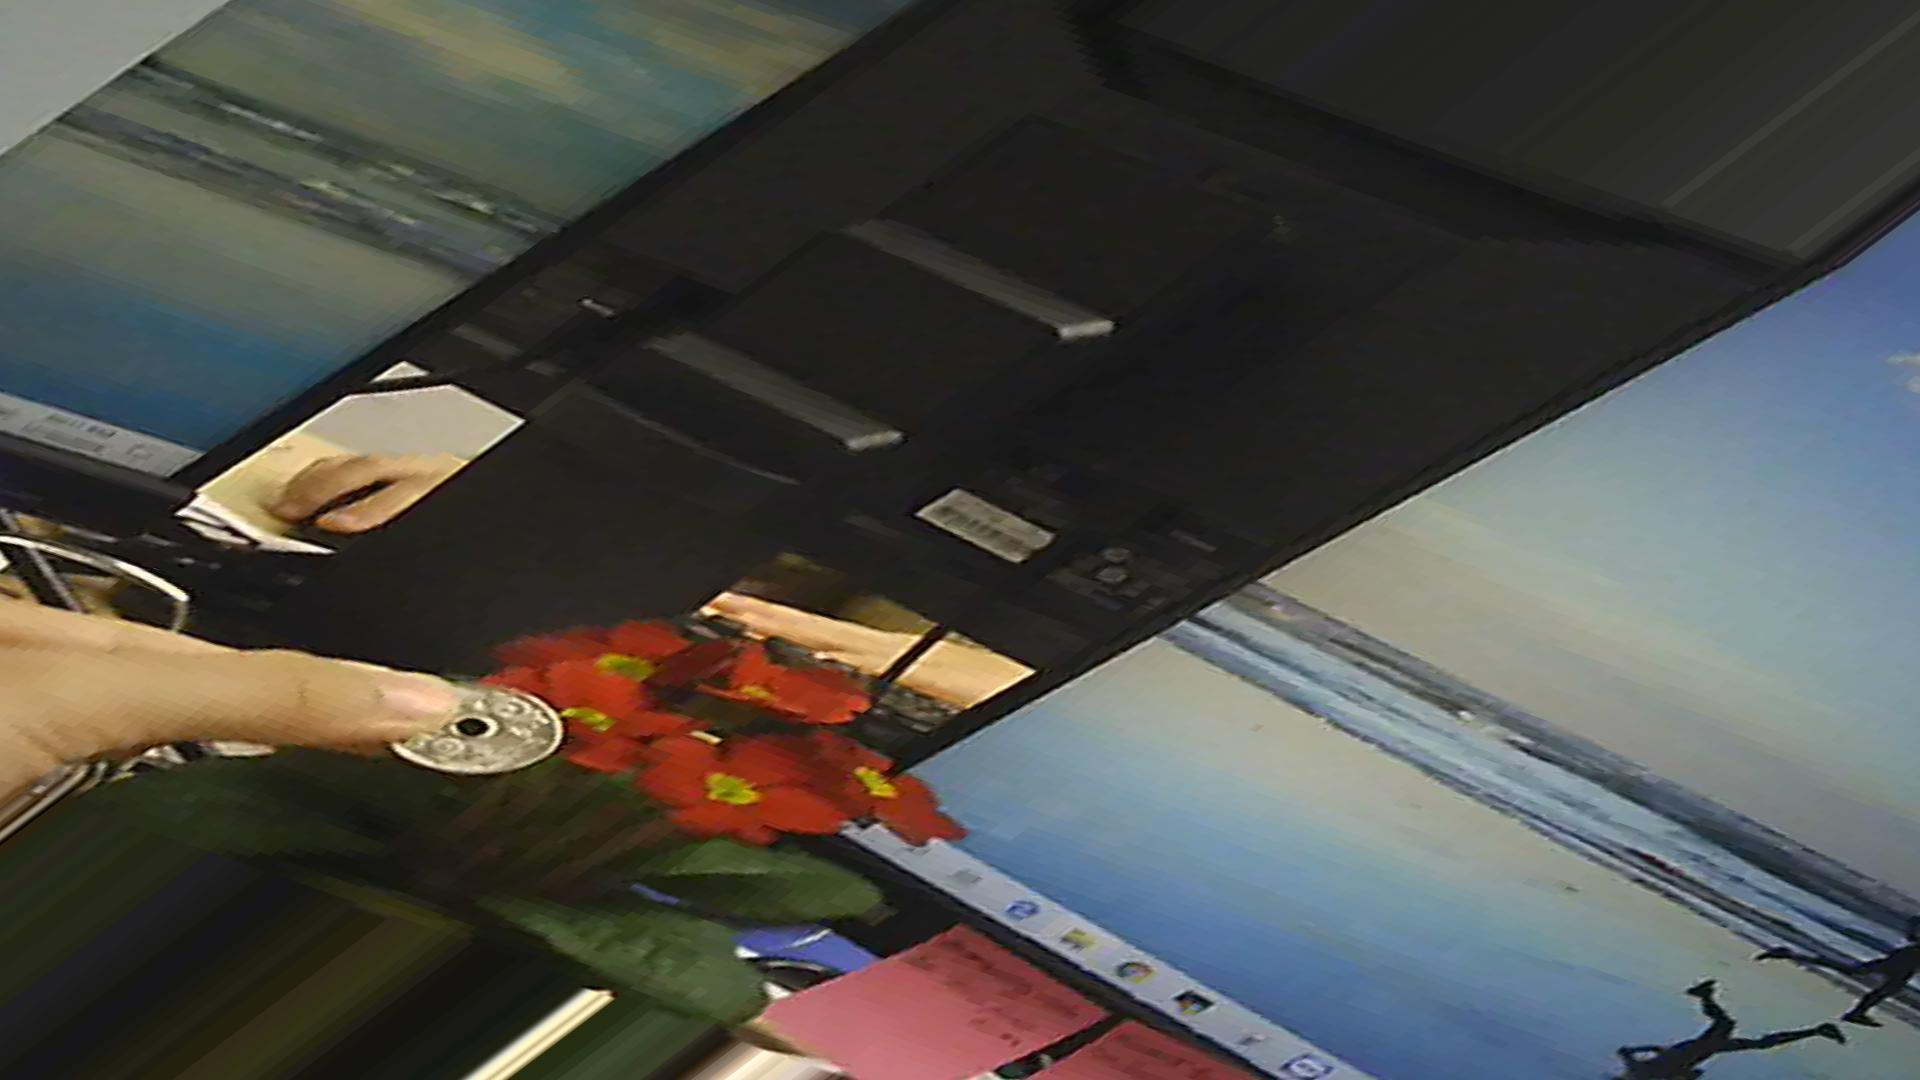50 Yen: (382, 676, 564, 783)
